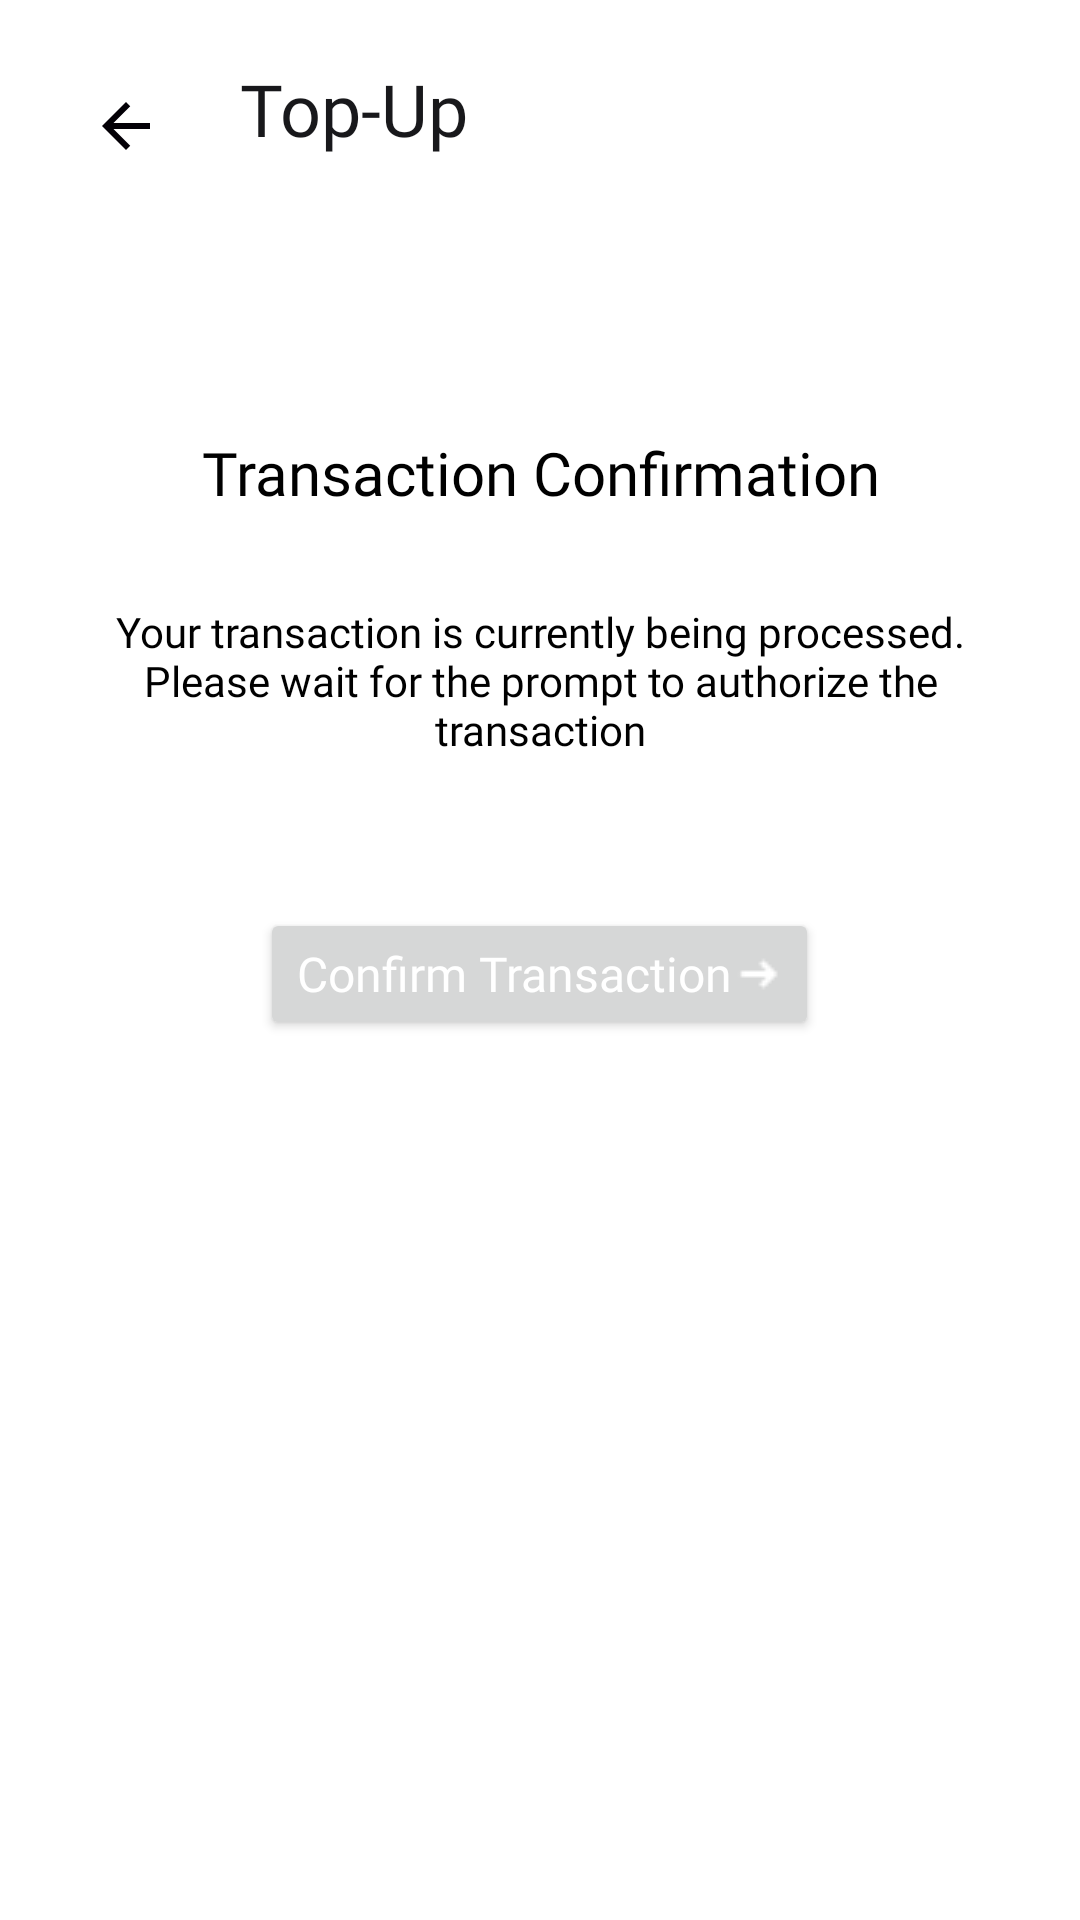

Screen size 1080x1920. Icon name, then its box in pixels as rect(x1, y1, x2, y2):
arrow back: rect(102, 102, 150, 150)
